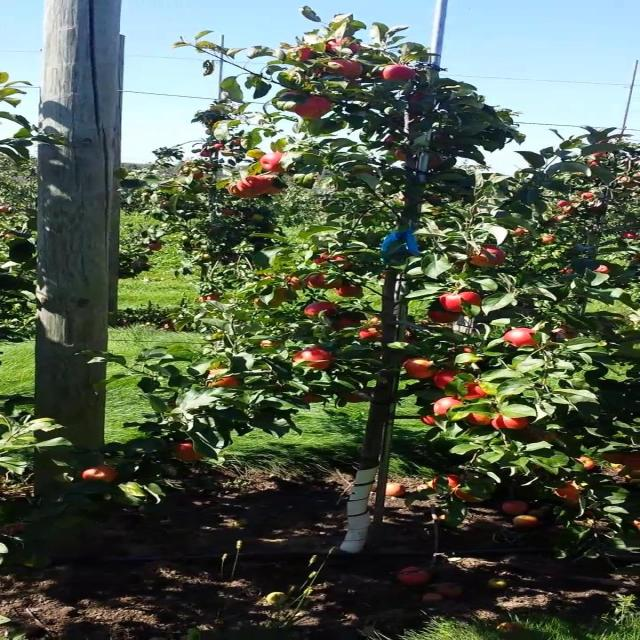apple: (440, 292, 484, 312), (298, 96, 334, 120), (298, 348, 334, 369), (468, 248, 505, 268), (326, 60, 364, 79), (504, 328, 539, 348), (404, 360, 434, 380), (205, 372, 242, 388), (326, 40, 363, 55), (84, 468, 121, 483), (433, 396, 462, 415), (312, 272, 343, 289), (383, 68, 418, 83), (177, 444, 206, 462), (497, 416, 533, 430), (433, 308, 462, 324), (433, 476, 462, 492), (262, 152, 284, 173), (241, 176, 263, 197), (433, 372, 460, 389), (305, 304, 340, 317), (333, 316, 363, 330), (561, 484, 583, 503), (454, 348, 476, 367), (333, 284, 363, 297), (454, 488, 480, 503), (468, 384, 491, 400), (255, 296, 284, 308), (468, 412, 492, 426), (284, 276, 308, 290), (333, 320, 363, 331), (333, 256, 356, 270), (554, 328, 580, 340), (575, 456, 597, 470), (604, 452, 629, 464), (234, 184, 254, 199), (625, 456, 639, 476), (362, 328, 382, 341), (276, 288, 293, 303), (312, 252, 331, 265), (269, 180, 284, 196), (561, 200, 576, 215), (298, 48, 315, 61), (426, 156, 443, 169), (348, 392, 366, 404), (625, 456, 639, 471), (262, 340, 283, 348), (412, 92, 427, 103), (461, 348, 476, 359), (305, 396, 325, 404), (397, 148, 407, 160), (383, 136, 398, 144), (426, 416, 437, 426), (284, 92, 306, 96)
